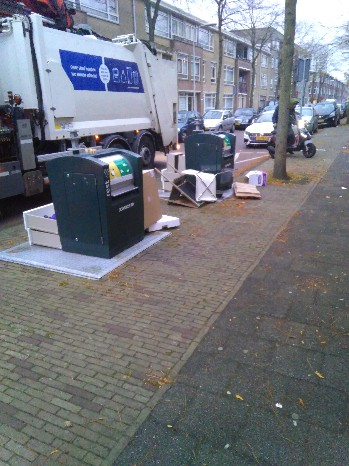Container: (67, 145, 150, 268), (192, 124, 241, 186)
Rest: (130, 171, 179, 230), (164, 161, 211, 209), (29, 197, 57, 247), (239, 167, 262, 194)
Voertuig: (6, 6, 181, 157), (240, 103, 292, 148), (296, 101, 341, 135), (193, 100, 233, 131)
